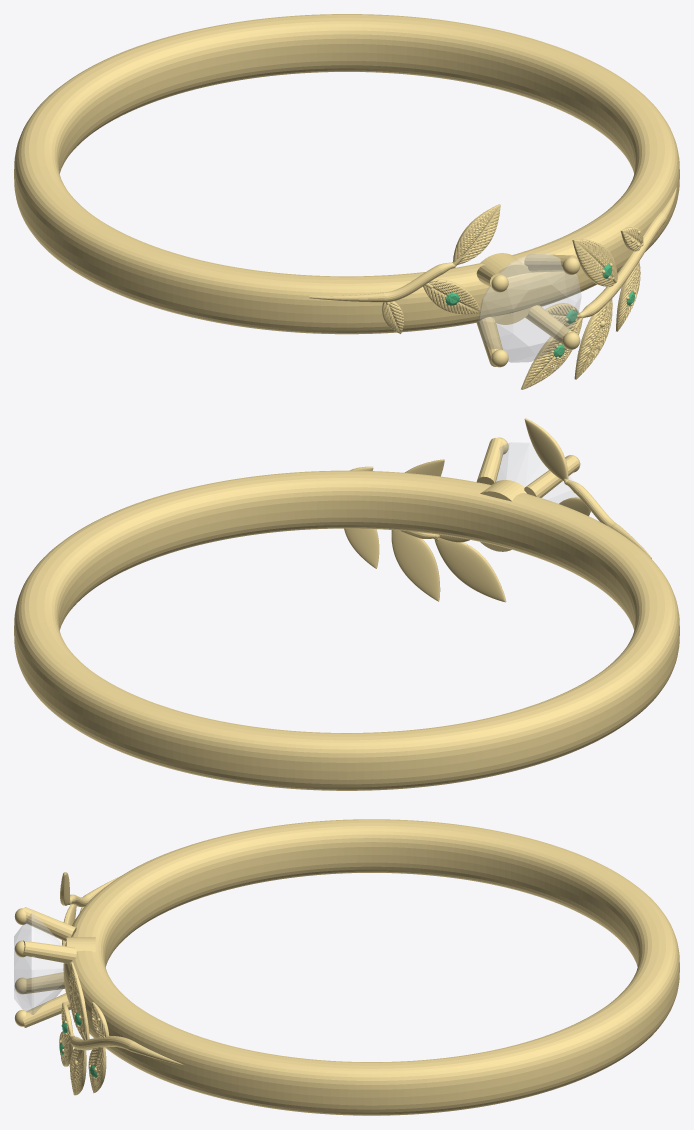
The model's file is bague_olivier.glb.
3 views of the same model, one above another, from view 1: azimuth 30°, elevation 25°; view 2: azimuth 150°, elevation 25°; view 3: azimuth 270°, elevation 25° (orthographic). The views are drawn at different scales.
Parts seen in each view (by area): view 1: Or, Diamant, Emeraudes; view 2: Or, Diamant; view 3: Or, Diamant.
Boxes of the visible parts, x1,y1,x2,y2 form: Or: [14, 14, 679, 389]; Diamant: [478, 253, 581, 362]; Emeraudes: [445, 263, 634, 357]; Or: [14, 418, 679, 790]; Diamant: [496, 442, 578, 503]; Or: [14, 819, 679, 1115]; Diamant: [14, 913, 64, 1014].
Bounding box in the file's own units: 19.15 × 6.3 × 20.69.
